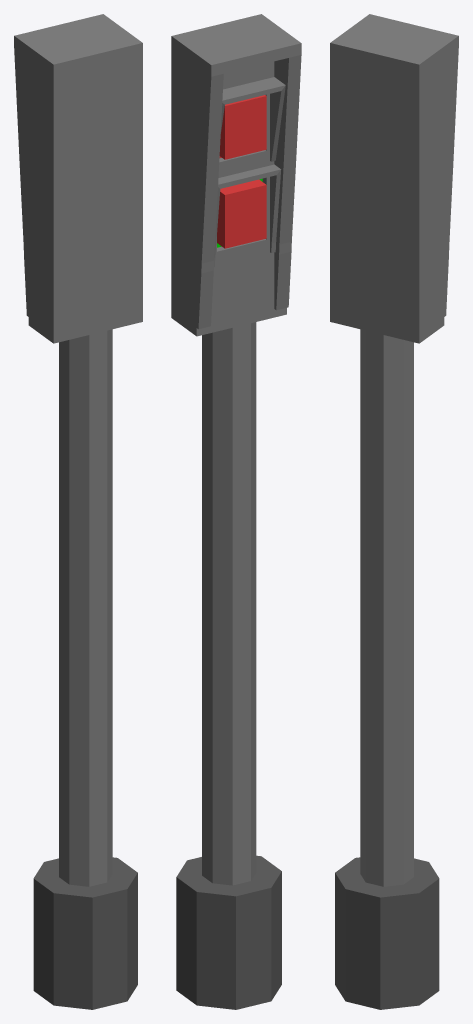
File: Traffic Light 3.fbx
3 renders of one model, left to right at view 1: azimuth 30°, elevation 25°; view 2: azimuth 210°, elevation 25°; view 3: azimuth 330°, elevation 25°, orthographic.
Visible parts, largest first — view 1: Traffic Light 3; view 2: Traffic Light 3, Traffic Light 3 Green, Traffic Light 3 Red; view 3: Traffic Light 3.
Part boxes in pixels (x1,y1,x2,y2): Traffic Light 3: (14,14,142,1009); Traffic Light 3: (171,14,301,1009); Traffic Light 3 Green: (217,179,266,248); Traffic Light 3 Red: (219,95,266,159); Traffic Light 3: (330,14,458,1009).
Bounding box in the file's own units: 0.2125 × 0.2114 × 2.15.
